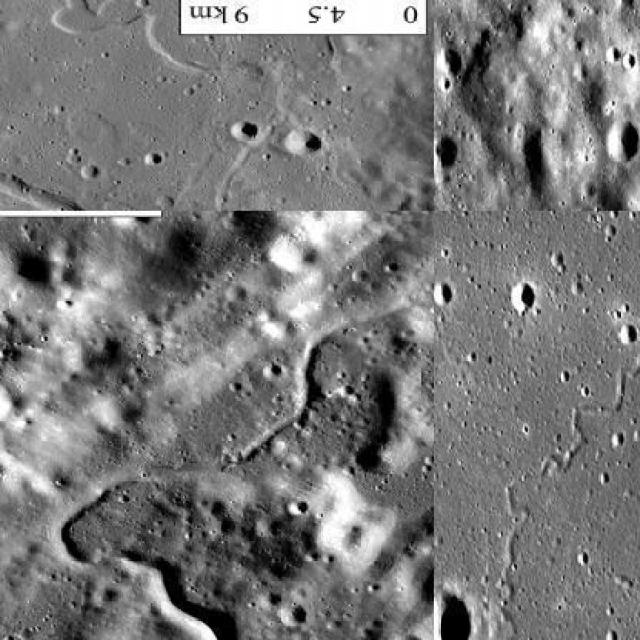rille: (42, 287, 423, 638), (492, 352, 638, 638), (0, 22, 189, 209)
